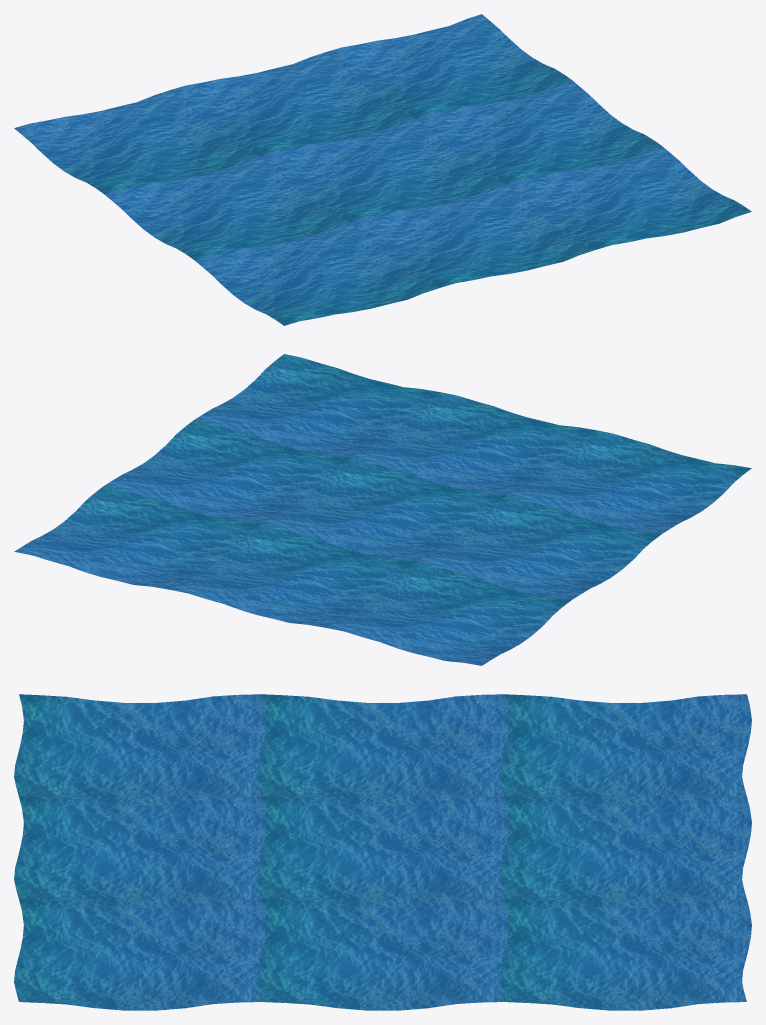
Rendered from ocean_000242.obj.
3 renders of one model, top to bottom at view 1: azimuth 30°, elevation 25°; view 2: azimuth 150°, elevation 25°; view 3: azimuth 270°, elevation 25°, orthographic. The views are drawn at different scales.
Parts seen in each view (by area): view 1: Ocean_Plan.001; view 2: Ocean_Plan.001; view 3: Ocean_Plan.001.
Part boxes in pixels (x1,y1,x2,y2): Ocean_Plan.001: (14,14,751,325); Ocean_Plan.001: (14,354,751,665); Ocean_Plan.001: (14,694,751,1010).
Size of the model in its own units: 109139 by 2253 by 110454.
1 material, 1 textured.
